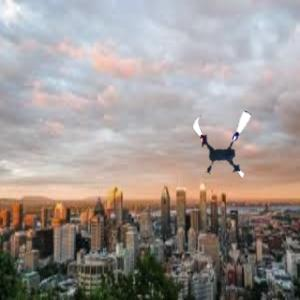drone: (184, 104, 263, 183)
